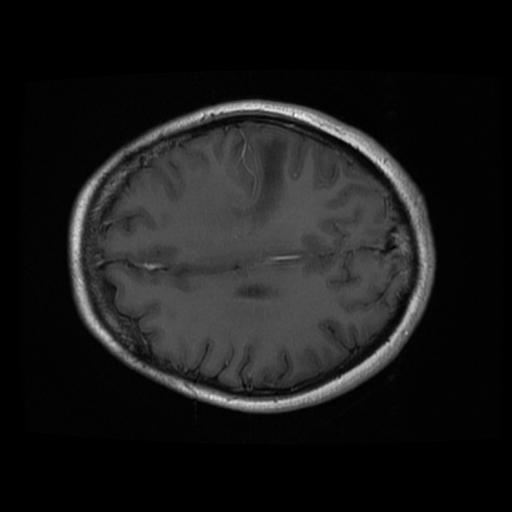glioma: (238, 139, 285, 229)
